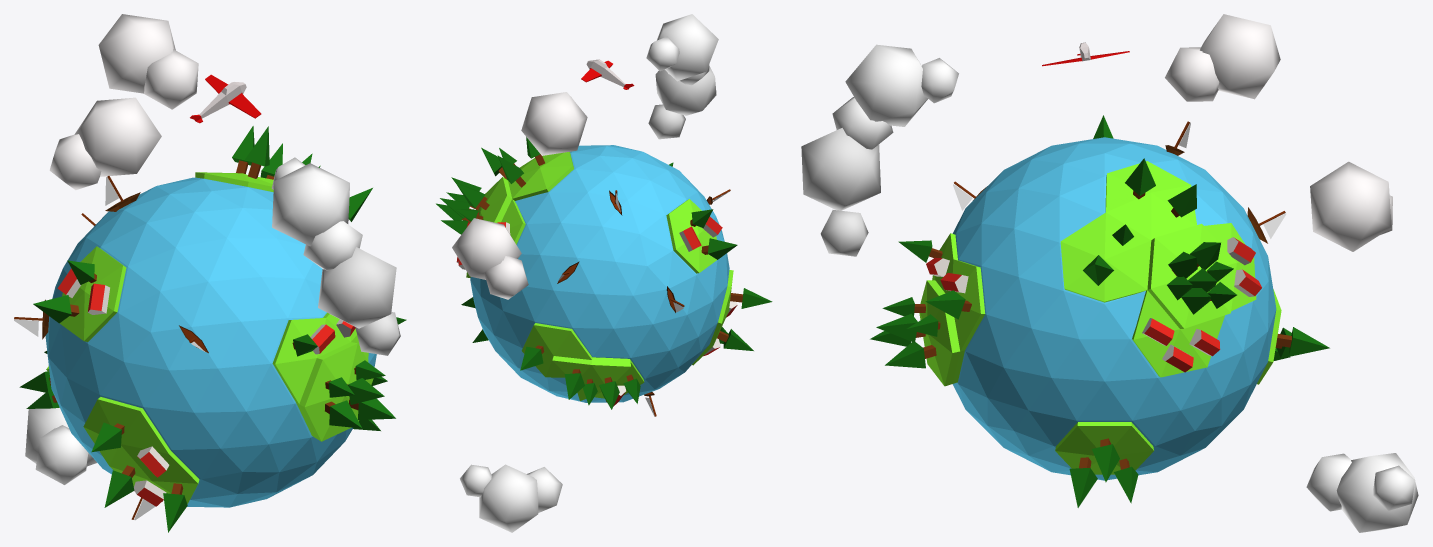
The model's file is planet.glb.
3 views of the same model, side by side, from view 1: azimuth 30°, elevation 25°; view 2: azimuth 150°, elevation 25°; view 3: azimuth 270°, elevation 25° (orthographic). The views are drawn at different scales.
Parts seen in each view (by area): view 1: acqua, mondo, nuvola.001, nuvola.002, nuvola, Icosphere, nuvola.003, aereo, albero.024, albero.026, albero.025, albero.015 (+12 smaller); view 2: acqua, mondo, nuvola.003, nuvola.002, nuvola.001, nuvola, Icosphere, aereo, albero.023, albero.026, albero.024, albero.029 (+3 smaller); view 3: acqua, mondo, nuvola.001, nuvola, Icosphere, nuvola.003, nuvola.002, albero.029, albero.016, albero.018, albero.030.
Boxes of the visible parts, x1=… form: acqua: x1=45, y1=177, x2=376, y2=507; mondo: x1=46, y1=172, x2=373, y2=503; nuvola.001: x1=271, y1=157, x2=362, y2=270; nuvola.002: x1=49, y1=97, x2=161, y2=190; nuvola: x1=98, y1=14, x2=198, y2=109; Icosphere: x1=318, y1=247, x2=400, y2=355; nuvola.003: x1=25, y1=407, x2=96, y2=484; aereo: x1=190, y1=74, x2=261, y2=123; albero.024: x1=104, y1=465, x2=135, y2=507; albero.026: x1=33, y1=295, x2=79, y2=323; albero.025: x1=163, y1=483, x2=187, y2=532; albero.015: x1=325, y1=400, x2=362, y2=428; acqua: x1=470, y1=145, x2=729, y2=402; mondo: x1=466, y1=152, x2=733, y2=401; nuvola.003: x1=460, y1=464, x2=562, y2=532; nuvola.002: x1=452, y1=218, x2=528, y2=299; nuvola.001: x1=646, y1=14, x2=718, y2=85; nuvola: x1=521, y1=92, x2=587, y2=155; Icosphere: x1=648, y1=66, x2=716, y2=139; aereo: x1=581, y1=59, x2=634, y2=89; albero.023: x1=730, y1=288, x2=772, y2=308; albero.026: x1=701, y1=238, x2=737, y2=259; albero.024: x1=717, y1=329, x2=753, y2=350; albero.029: x1=520, y1=345, x2=544, y2=370; acqua: x1=952, y1=137, x2=1276, y2=480; mondo: x1=919, y1=161, x2=1281, y2=474; nuvola.001: x1=832, y1=44, x2=958, y2=149; nuvola: x1=1165, y1=14, x2=1280, y2=101; Icosphere: x1=801, y1=128, x2=880, y2=256; nuvola.003: x1=1306, y1=453, x2=1418, y2=532; nuvola.002: x1=1310, y1=161, x2=1392, y2=251; albero.029: x1=1276, y1=327, x2=1329, y2=356; albero.016: x1=885, y1=342, x2=936, y2=368; albero.018: x1=1069, y1=457, x2=1097, y2=507; albero.030: x1=925, y1=290, x2=971, y2=319.
Size of the model in its own units: 4.11 by 5.59 by 6.01.
